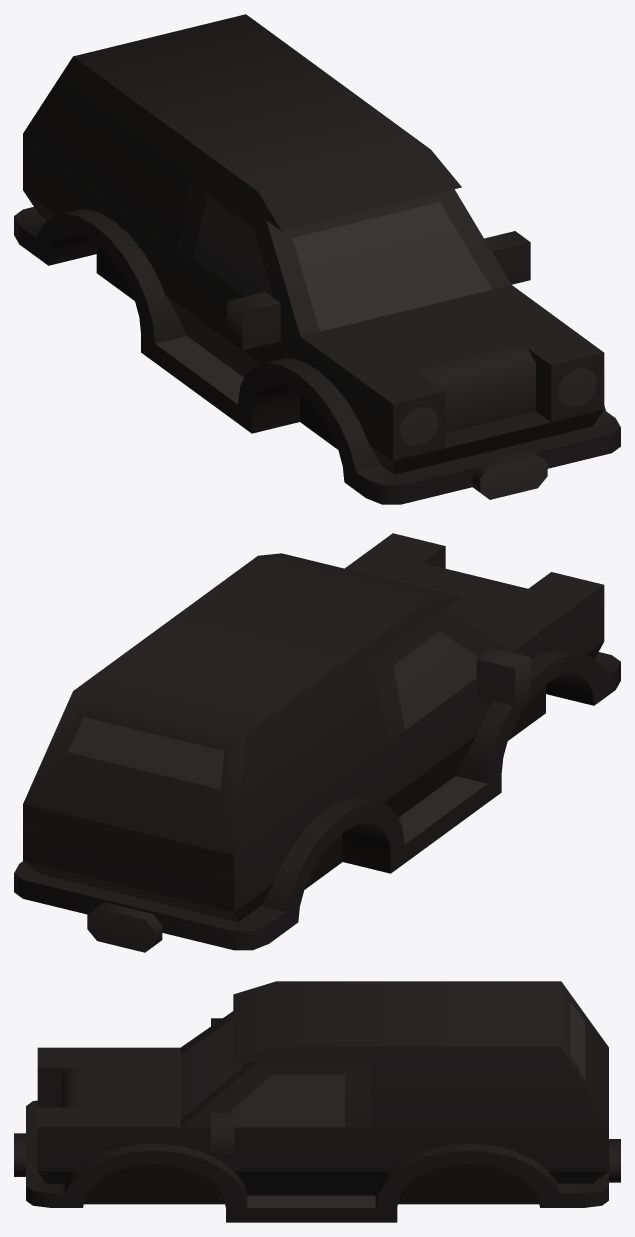
Rendered from suv_burnt.glb.
3 renders of one model, top to bottom at view 1: azimuth 30°, elevation 25°; view 2: azimuth 150°, elevation 25°; view 3: azimuth 270°, elevation 25°, orthographic. The views are drawn at different scales.
Parts seen in each view (by area): view 1: body; view 2: body; view 3: body.
Boxes of the visible parts, <box> form: body: <box>14,14,620,504</box>; body: <box>14,533,620,952</box>; body: <box>14,981,620,1222</box>.
Bounding box in the file's own units: 1.9 × 1.32 × 4.49.
1 material, 1 textured.
